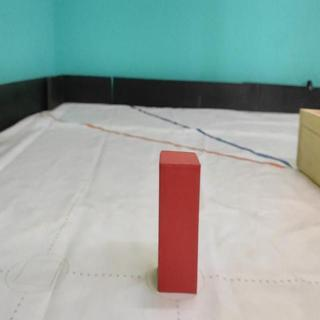redbox: (159, 150, 198, 294)
